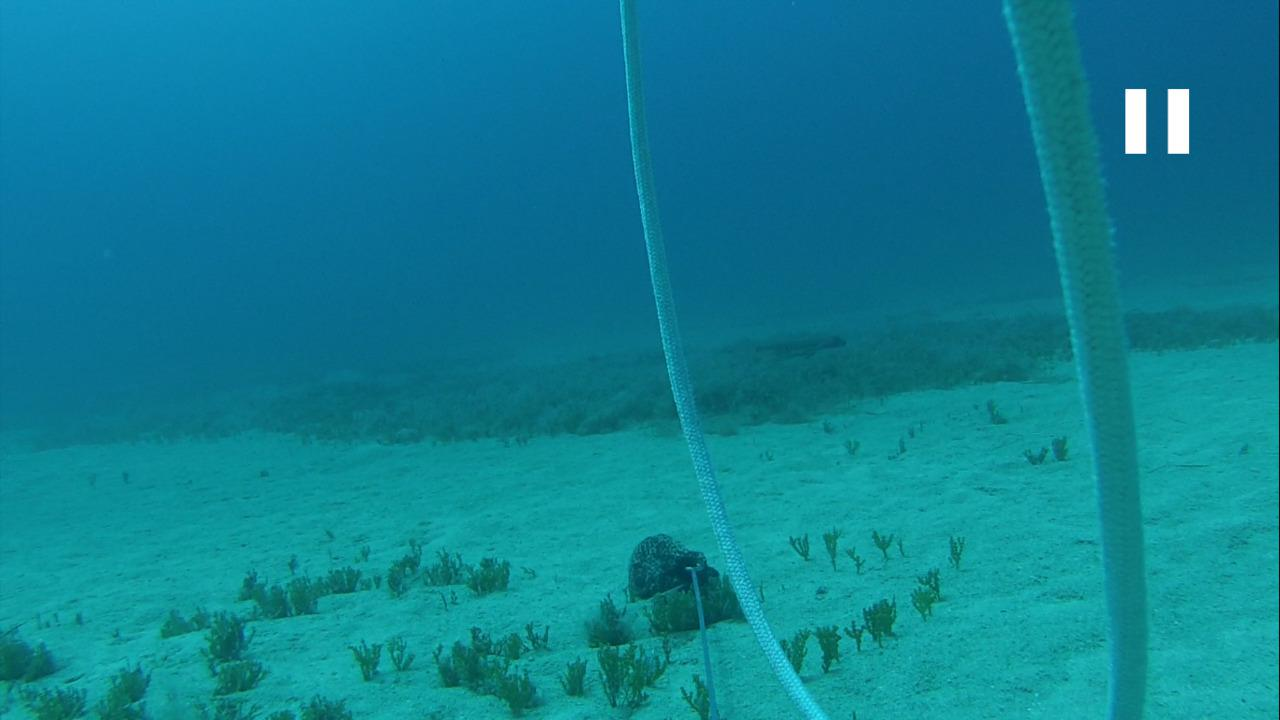dactylopterus: (740, 329, 862, 375)
